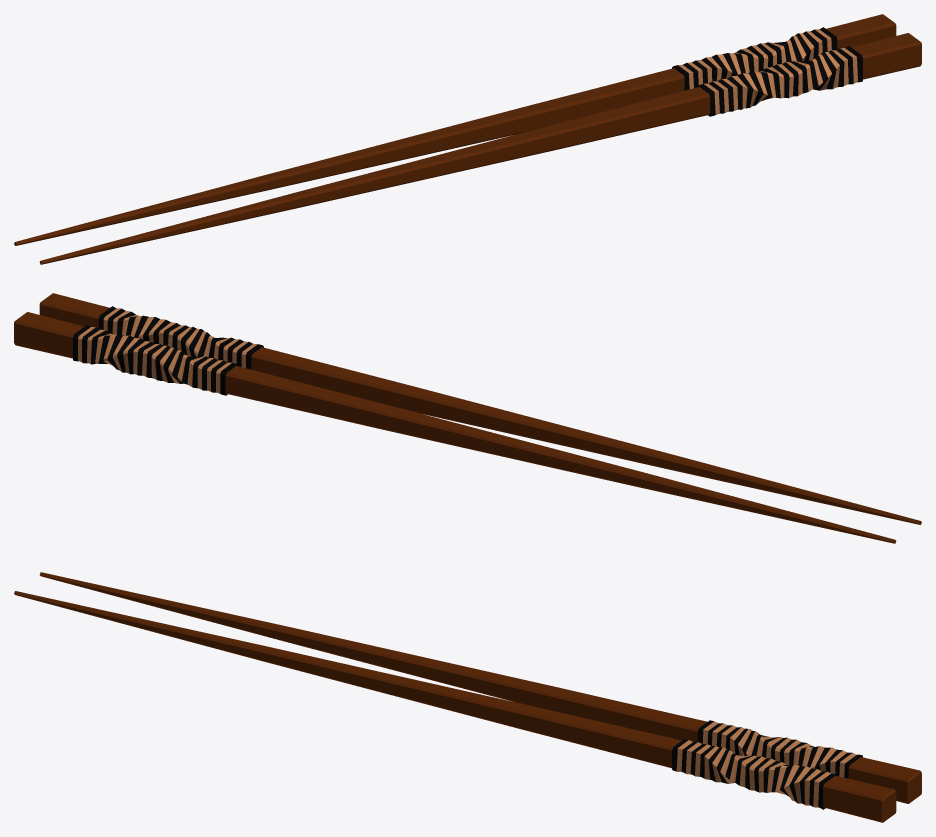
File: chopstick1.fbx
The picture shows the model from 3 angles, top to bottom: view 1: azimuth 30°, elevation 25°; view 2: azimuth 150°, elevation 25°; view 3: azimuth 330°, elevation 25°; orthographic projection.
Visible parts, largest first — view 1: left, right; view 2: right, left; view 3: left, right.
Boxes of the visible parts, x1=… form: left: x1=39, y1=33, x2=921, y2=264; right: x1=14, y1=14, x2=896, y2=245; right: x1=14, y1=312, x2=896, y2=543; left: x1=39, y1=293, x2=921, y2=524; left: x1=14, y1=591, x2=896, y2=822; right: x1=39, y1=572, x2=921, y2=803.
Bounding box in the file's own units: 14.66 × 0.5499 × 1.29.
